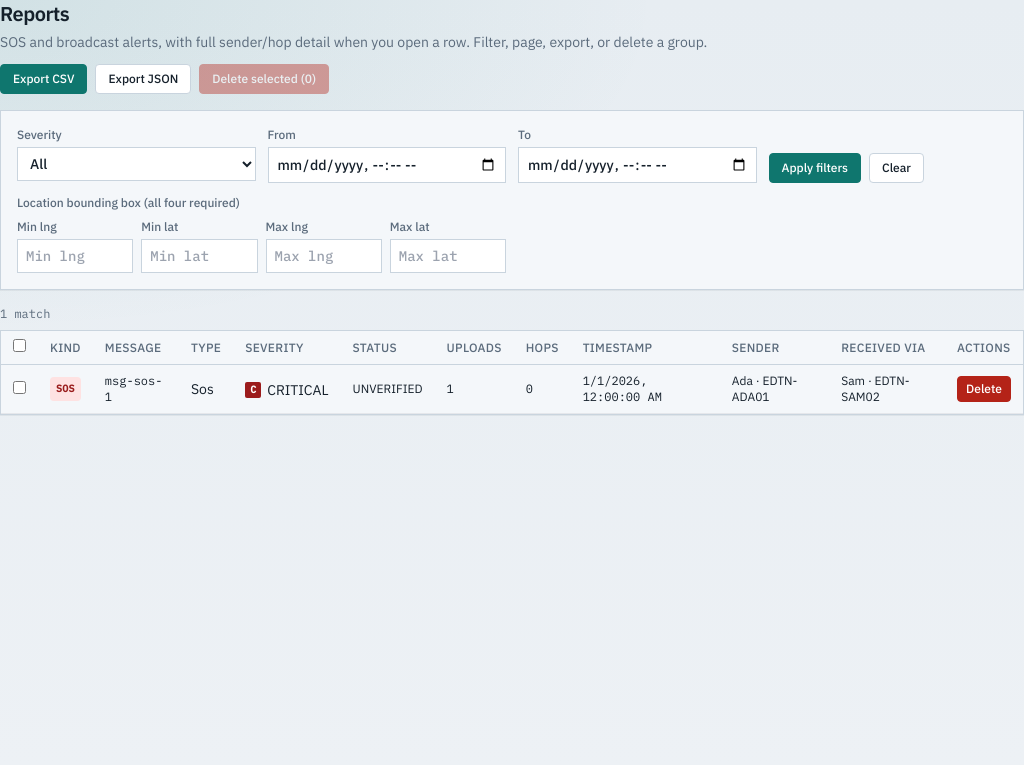
Test: ReportsPage delete › opens SOS detail when a row is clicked
What coordinates should you click on to do the following:
click the text "msg-sos-1"
I would click on:
 (136, 389)
Its box is [93, 364, 179, 414].
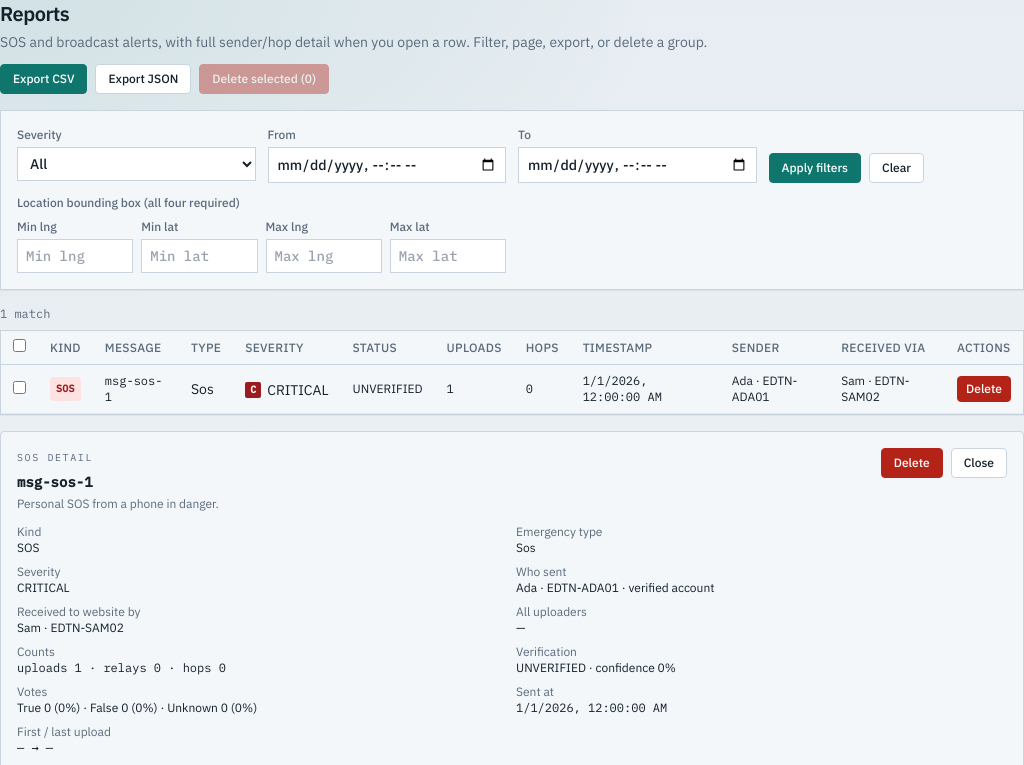
Now the text "SOS detail" is shown, box [17, 451, 93, 464]
Now the text "Personal SOS from a phone in danger." is shown, box [17, 496, 219, 512]
